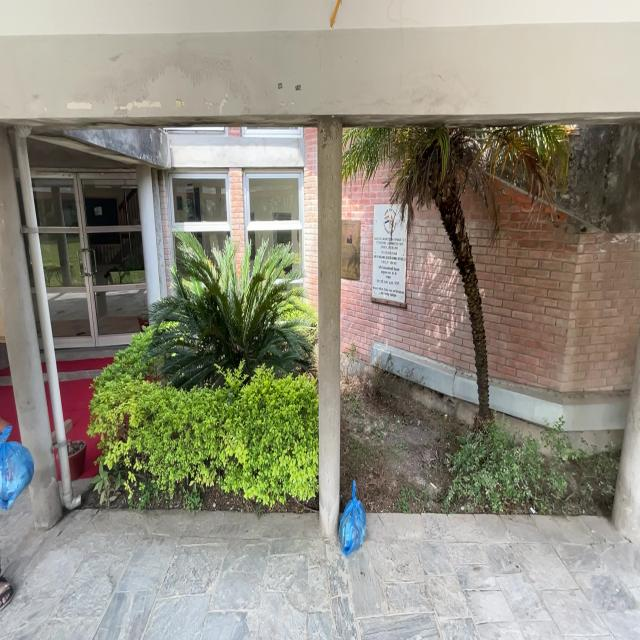carryload: (0, 412, 41, 508)
garbage: (328, 472, 368, 560)
